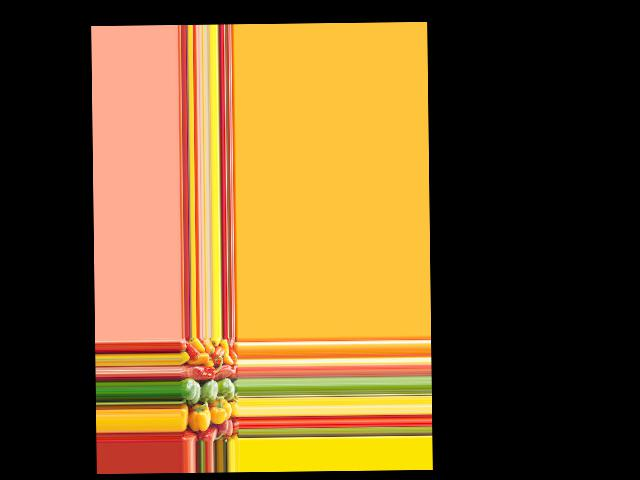bell_pepper: (184, 340, 200, 359)
